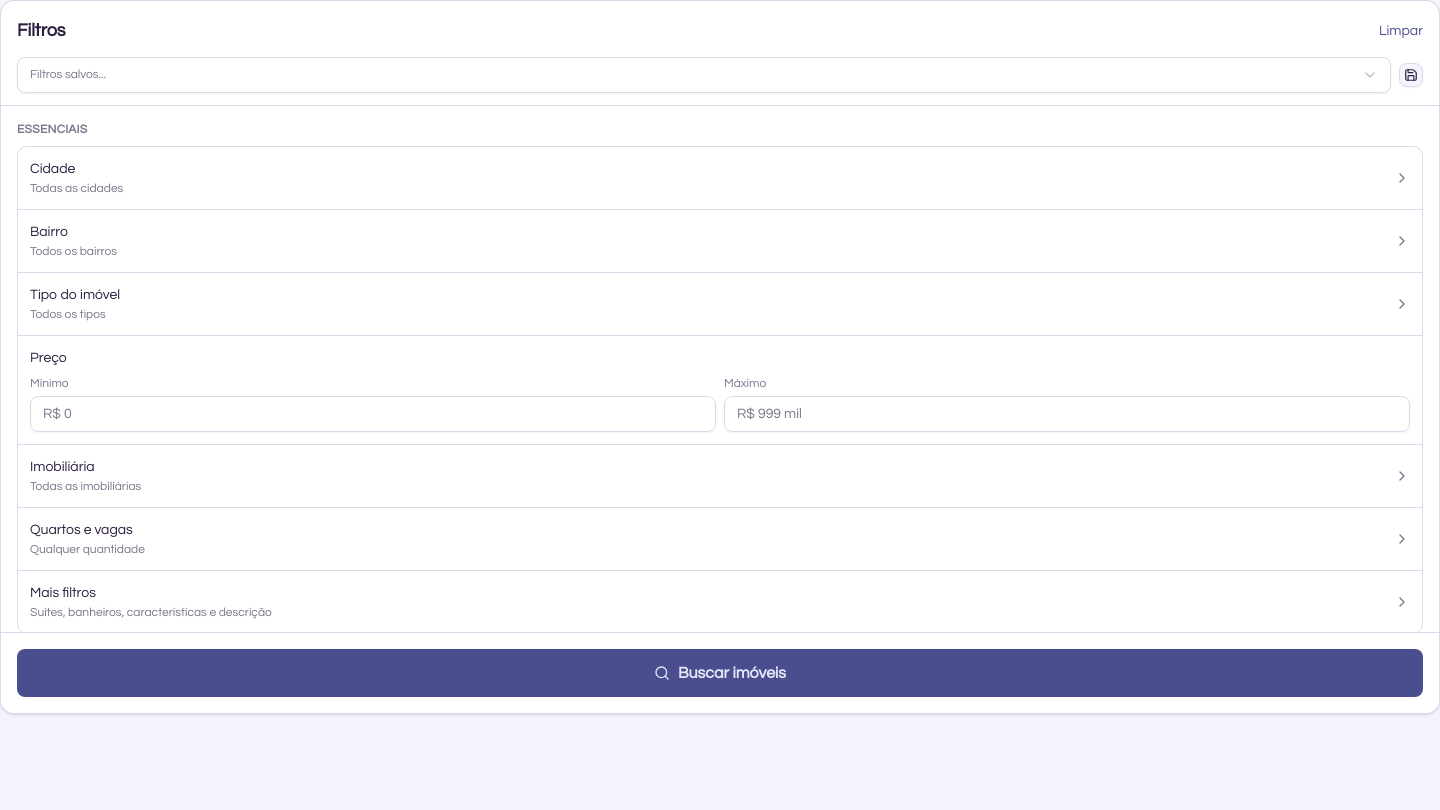
Test: PropertyFilters › shows only neighborhoods from the selected cities
Click the button with aria-label "Cidade: Todas as cidades" at (53, 169), box [18,147,1422,210]
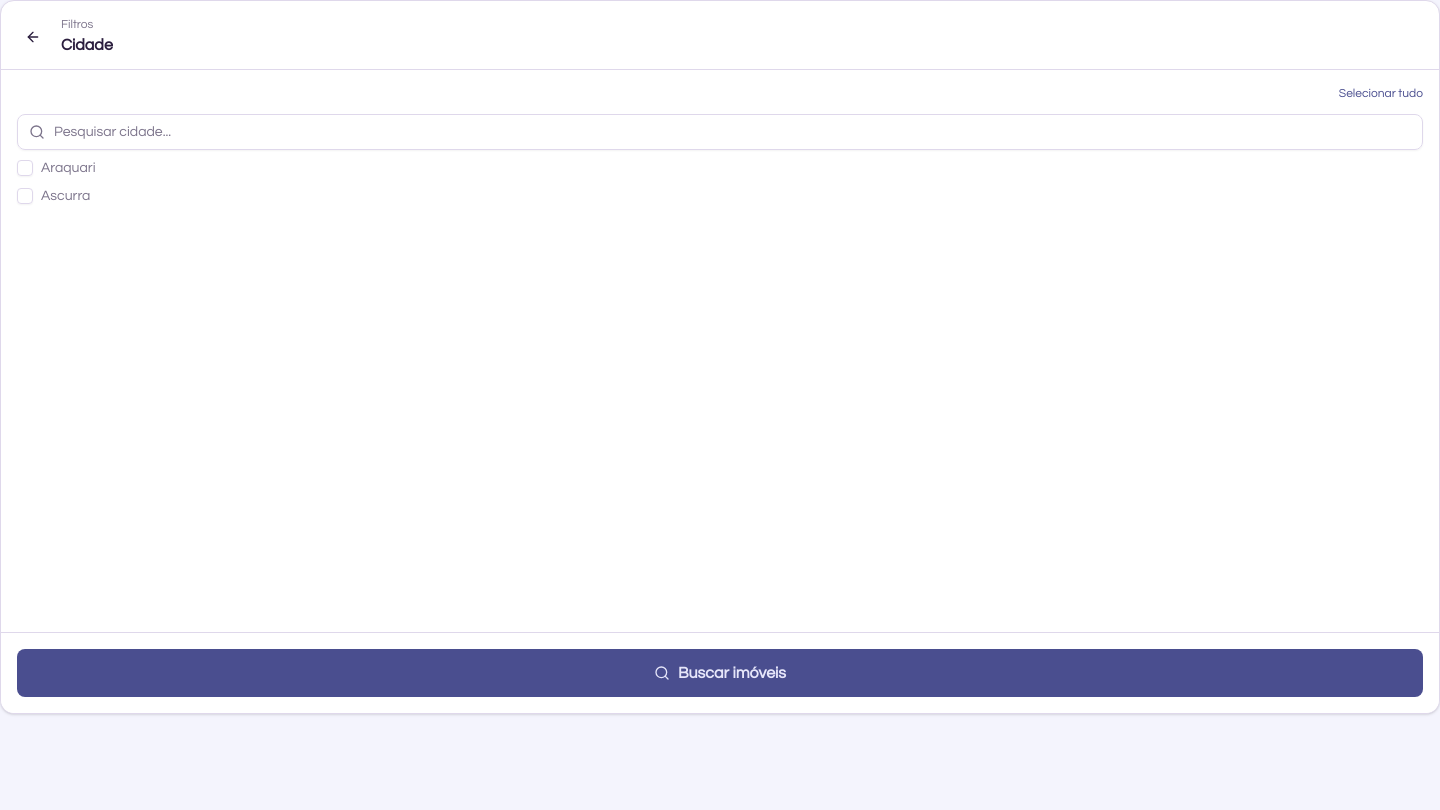
Click the checkbox named "Araquari" next to "Araquari" at (25, 168), box [17,160,33,176]
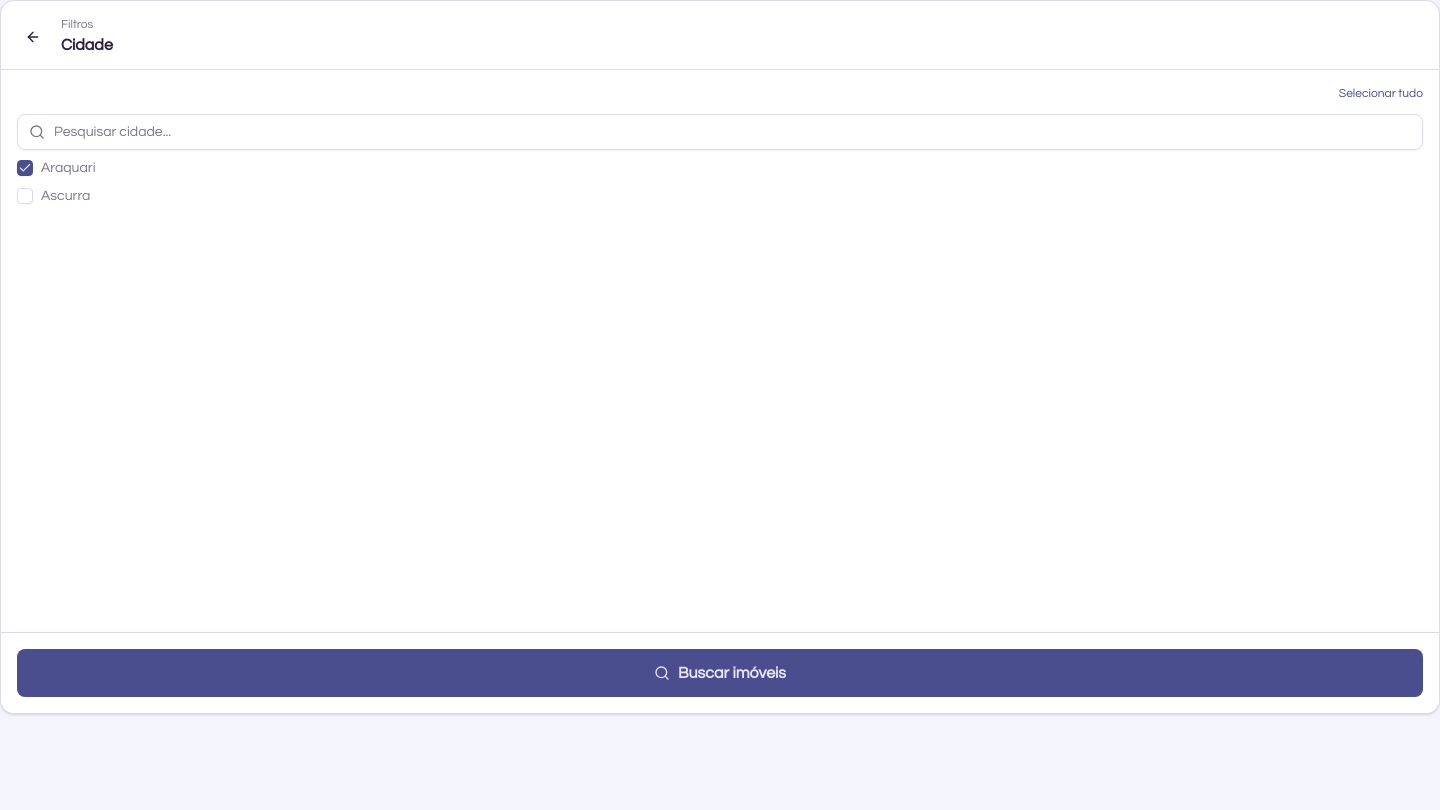
Click the button named "Voltar para filtros" at (33, 37), box [17,21,49,53]
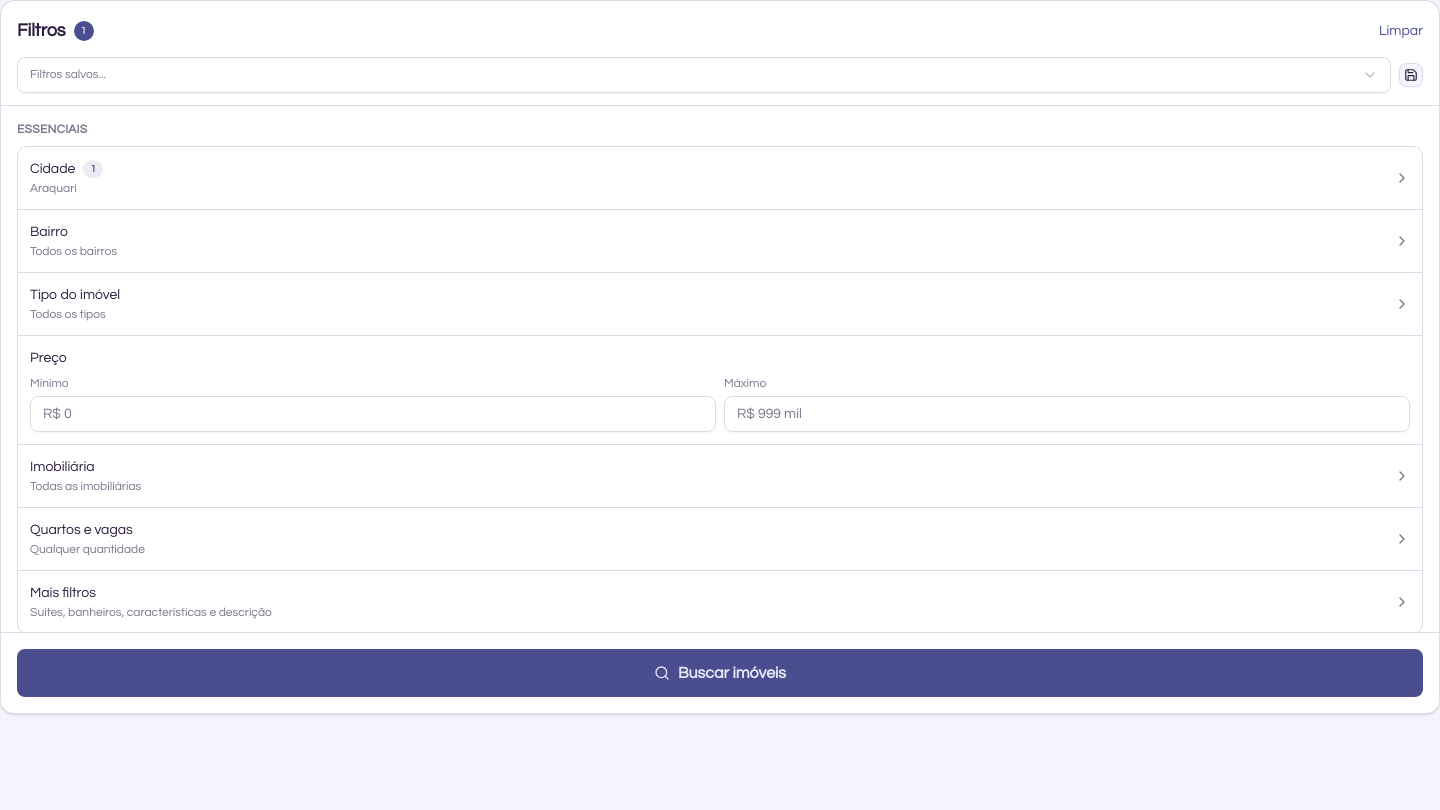
Click the button with aria-label "Bairro: Todos os bairros" at (49, 232), box [18,210,1422,273]
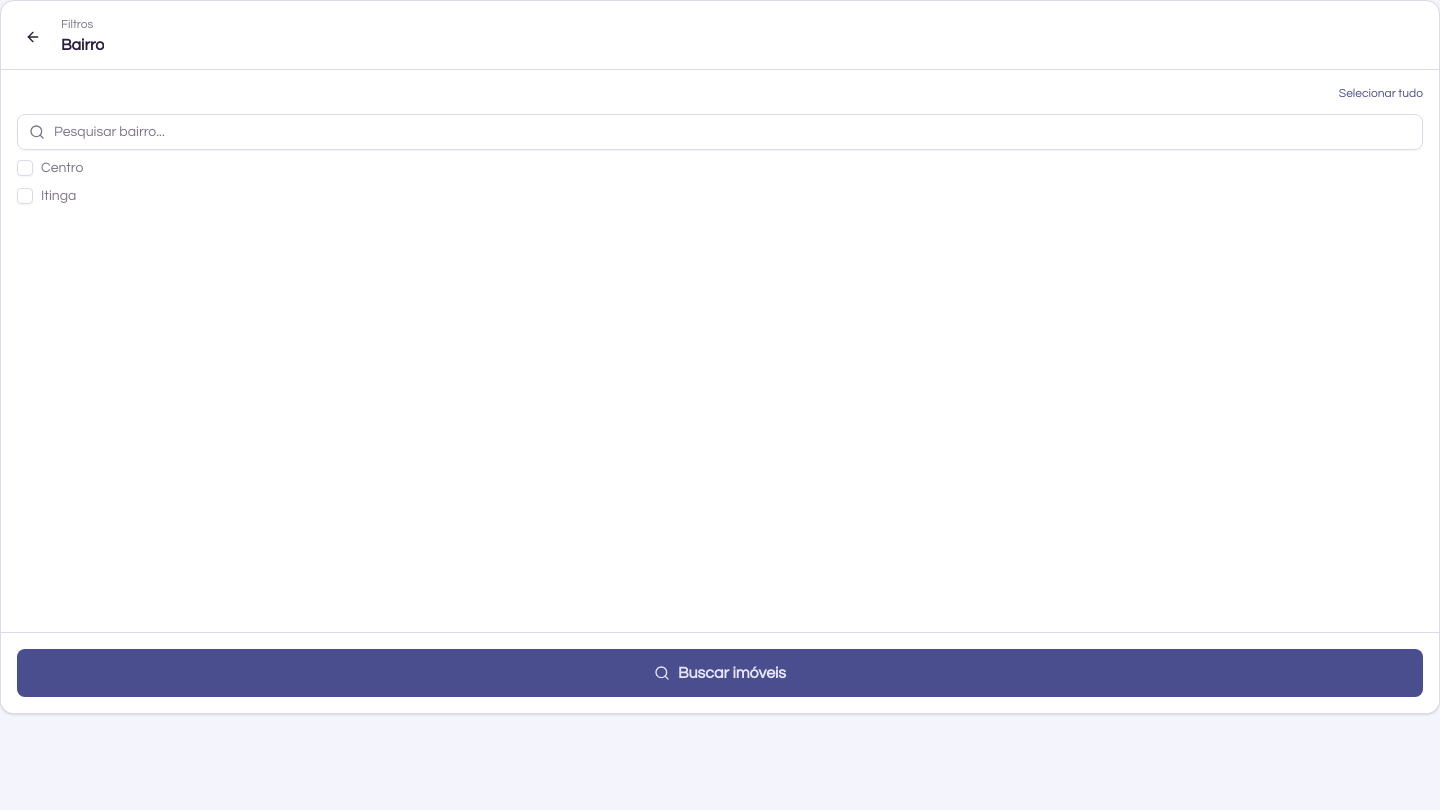
Now the checkbox named "Centro" next to "Centro" is shown, box [17,160,33,176]
Now the checkbox named "Itinga" next to "Itinga" is shown, box [17,188,33,204]
